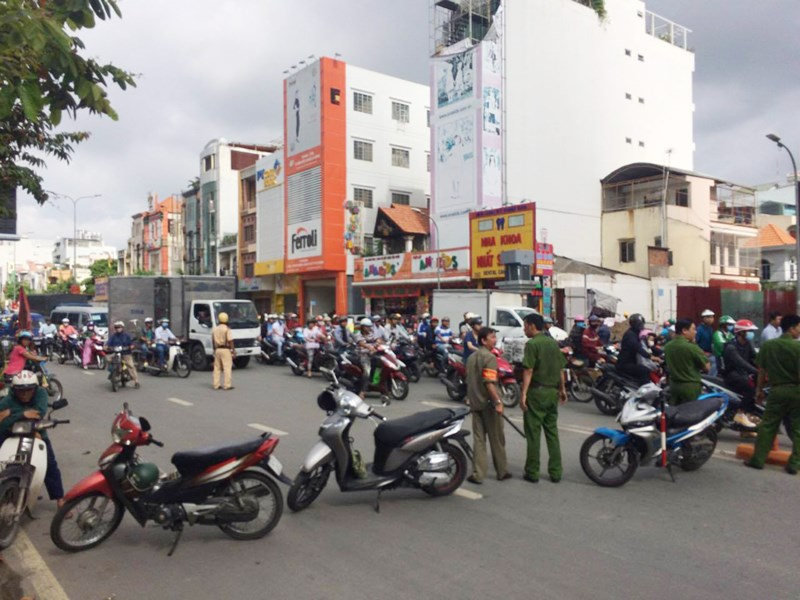police: (207, 312, 240, 397)
